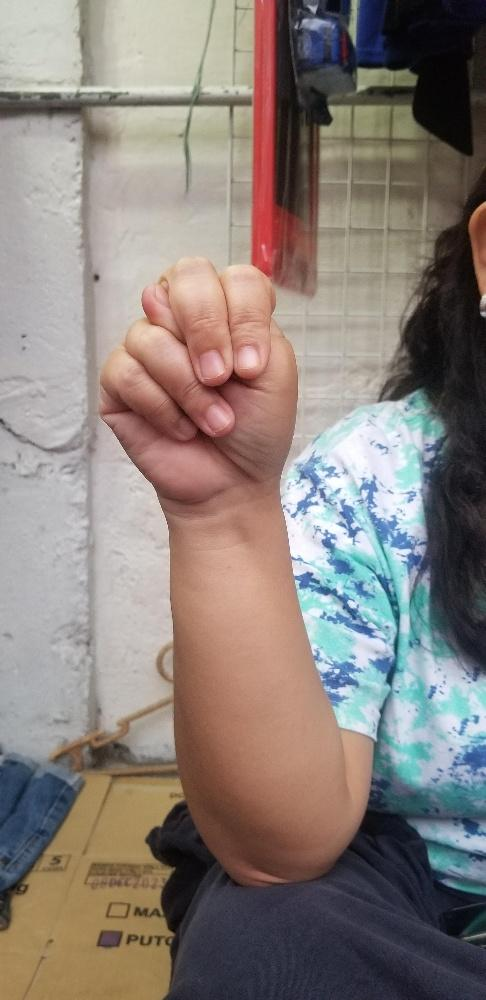n: (96, 252, 299, 508)
